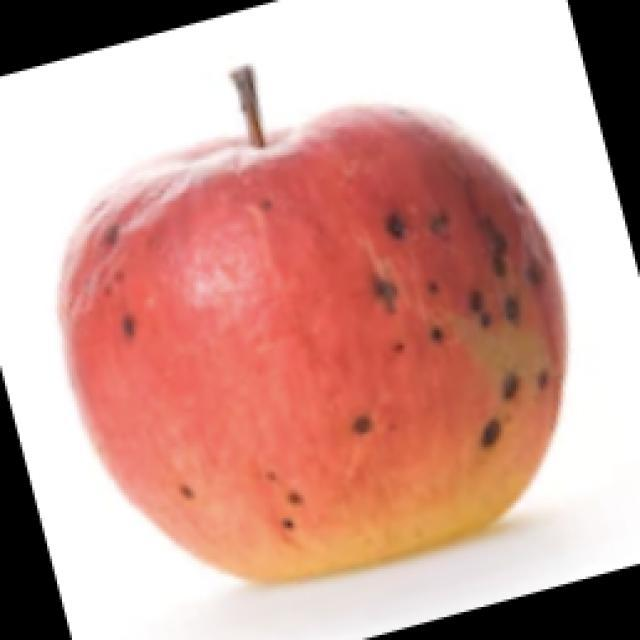Rotten: (55, 104, 573, 588)
